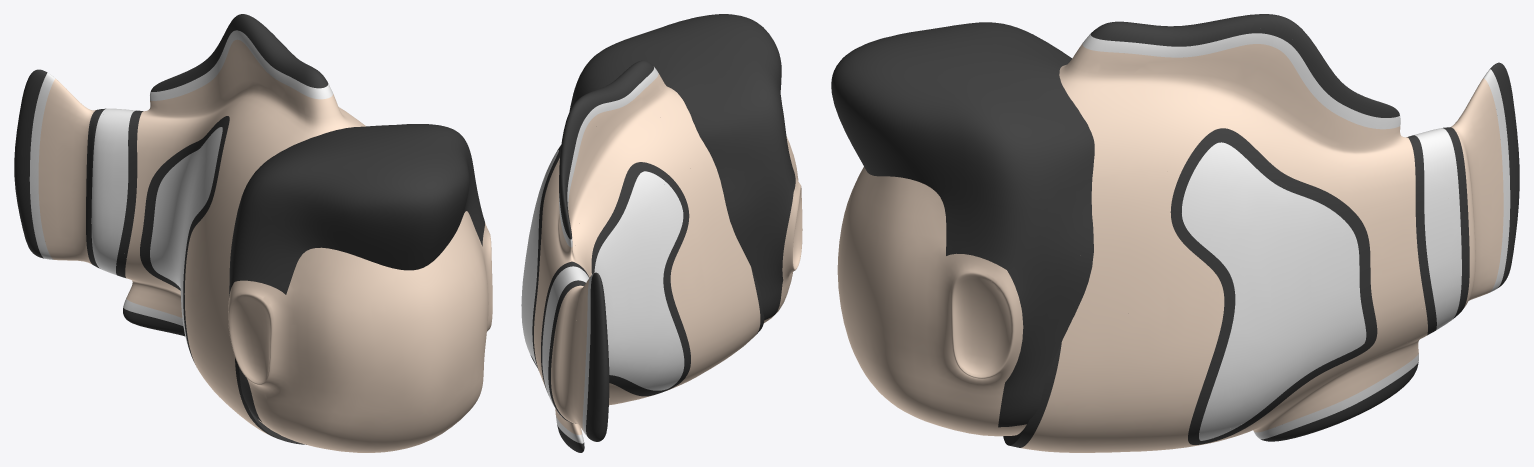
The picture shows the model from 3 angles, left to right: view 1: azimuth 30°, elevation 25°; view 2: azimuth 150°, elevation 25°; view 3: azimuth 270°, elevation 25°; orthographic projection. The views are drawn at different scales.
Parts seen in each view (by area): view 1: 002_niimo; view 2: 002_niimo; view 3: 002_niimo.
Boxes of the visible parts, bbox=[...] form: 002_niimo: bbox=[14, 14, 492, 452]; 002_niimo: bbox=[521, 14, 802, 452]; 002_niimo: bbox=[831, 14, 1519, 452].
Size of the model in its own units: 0.1294 by 0.1711 by 0.2506.
